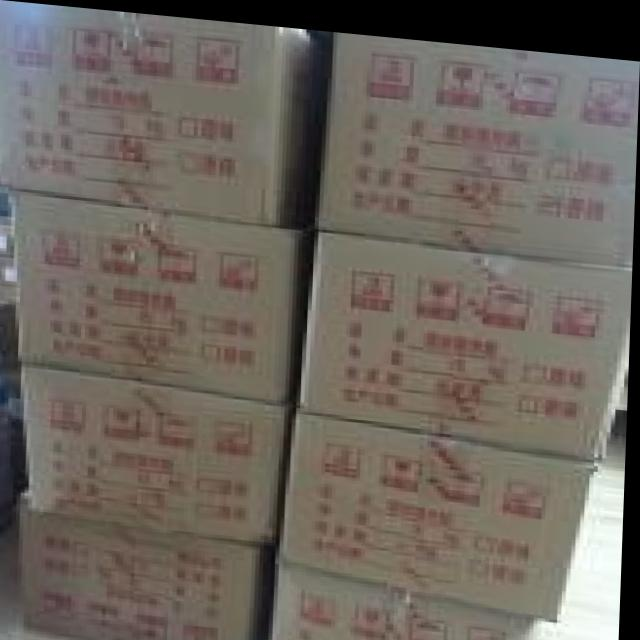box: (303, 225, 634, 450), (316, 25, 640, 252), (0, 0, 310, 218), (279, 405, 601, 608), (10, 190, 297, 397), (24, 363, 292, 545), (24, 492, 260, 640), (273, 555, 546, 640)
